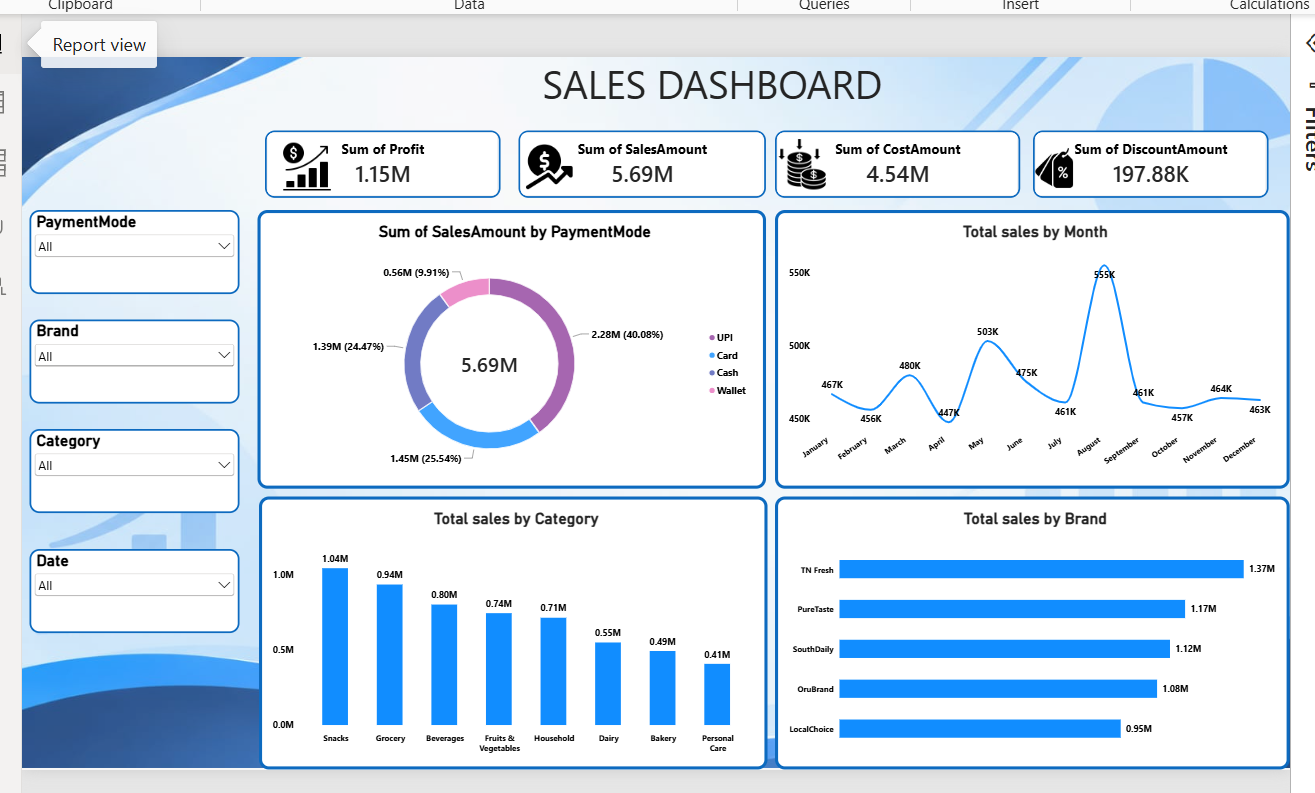

Layout of this report page (visuals, bound fields, positions):
{"tool":"powerbi","page":{"name":"Page 1","canvas":[1920,1080],"ordinal":0},"visuals":[{"type":"columnChart","fields":{"Category":["Dim_Product.Category"],"Y":["Dim_Customer.Total sales"]},"box":[358.9,665.5,770,413.4],"z":0},{"type":"barChart","fields":{"Category":["Dim_Product.Brand"],"Y":["Dim_Customer.Total sales"]},"box":[1140.2,665.5,779.1,413.4],"z":1000},{"type":"lineChart","fields":{"Category":["Dim_Date.Date.Variation.Date Hierarchy.Month"],"Y":["Dim_Customer.Total sales"]},"box":[1140.2,231.7,779.1,422],"z":2000},{"type":"donutChart","fields":{"Category":["Fact_Sales.PaymentMode"],"Y":["Sum(Fact_Sales.SalesAmount)"]},"box":[356.6,231.7,770,422],"z":3000},{"type":"cardVisual","fields":{"Data":["Sum(Fact_Sales.Profit)"]},"box":[368,111.3,356.6,102.2],"z":4000},{"type":"cardVisual","fields":{"Data":["Sum(Fact_Sales.SalesAmount)"]},"box":[751.8,111.3,374.8,102.2],"z":5000},{"type":"cardVisual","fields":{"Data":["Sum(Fact_Sales.CostAmount)"]},"box":[1140.2,111.3,371,102.2],"z":6000},{"type":"cardVisual","fields":{"Data":["Sum(Fact_Sales.DiscountAmount)"]},"box":[1530.9,111.3,356.6,102.2],"z":7000},{"type":"slicer","fields":{"Values":["Fact_Sales.PaymentMode"]},"box":[12,231.7,318,127.2],"z":8000},{"type":"slicer","fields":{"Values":["Dim_Product.Brand"]},"box":[12,397.5,318,127.2],"z":9000},{"type":"slicer","fields":{"Values":["Dim_Product.Category"]},"box":[12,563.3,318,127.2],"z":10000},{"type":"slicer","fields":{"Values":["Fact_Sales.Date"]},"box":[12,745,318,127.2],"z":11000},{"type":"textbox","box":[349.8,0,1390,84],"z":12000},{"type":"image","box":[388.4,127.2,86.3,77.2],"z":12001},{"type":"image","box":[751.8,129.5,93.1,70.4],"z":12002},{"type":"image","box":[1140.2,115.8,81.8,93.1],"z":12003},{"type":"image","box":[1530.9,104.5,65.9,127.2],"z":12004}]}

Visuals, with their boxes in screenshot pixels (x1, y1, x2, y2):
columnChart - Dim_Product.Category x Dim_Customer.Total sales: box(265, 495, 766, 765)
barChart - Dim_Product.Brand x Dim_Customer.Total sales: box(774, 495, 1281, 765)
lineChart - Dim_Date.Date.Variation.Date Hierarchy.Month x Dim_Customer.Total sales: box(774, 213, 1281, 488)
donutChart - Fact_Sales.PaymentMode x Sum(Fact_Sales.SalesAmount): box(263, 213, 765, 488)
cardVisual - Sum(Fact_Sales.Profit): box(271, 134, 503, 201)
cardVisual - Sum(Fact_Sales.SalesAmount): box(521, 134, 765, 201)
cardVisual - Sum(Fact_Sales.CostAmount): box(774, 134, 1015, 201)
cardVisual - Sum(Fact_Sales.DiscountAmount): box(1028, 134, 1260, 201)
slicer - Fact_Sales.PaymentMode: box(39, 213, 246, 295)
slicer - Dim_Product.Brand: box(39, 321, 246, 403)
slicer - Dim_Product.Category: box(39, 429, 246, 511)
slicer - Fact_Sales.Date: box(39, 547, 246, 630)
textbox: box(259, 62, 1164, 116)
image: box(284, 145, 340, 195)
image: box(521, 146, 581, 192)
image: box(774, 137, 827, 198)
image: box(1028, 130, 1071, 213)
